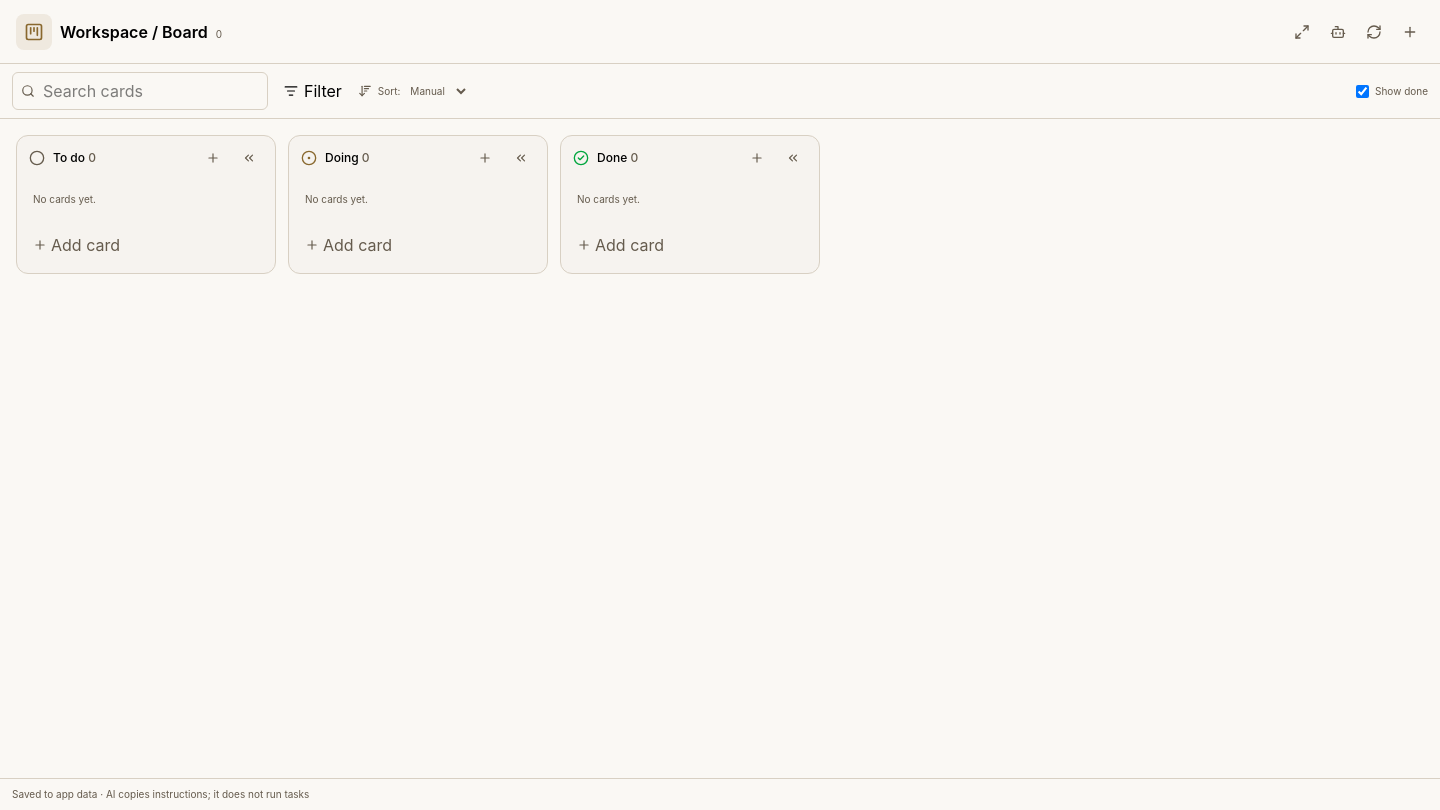
Scenario: adds continuously in the chosen column and ignores Enter during IME composition
Click the button named "Add card to Doing". click: click(485, 158)
box: [471, 144, 499, 172]
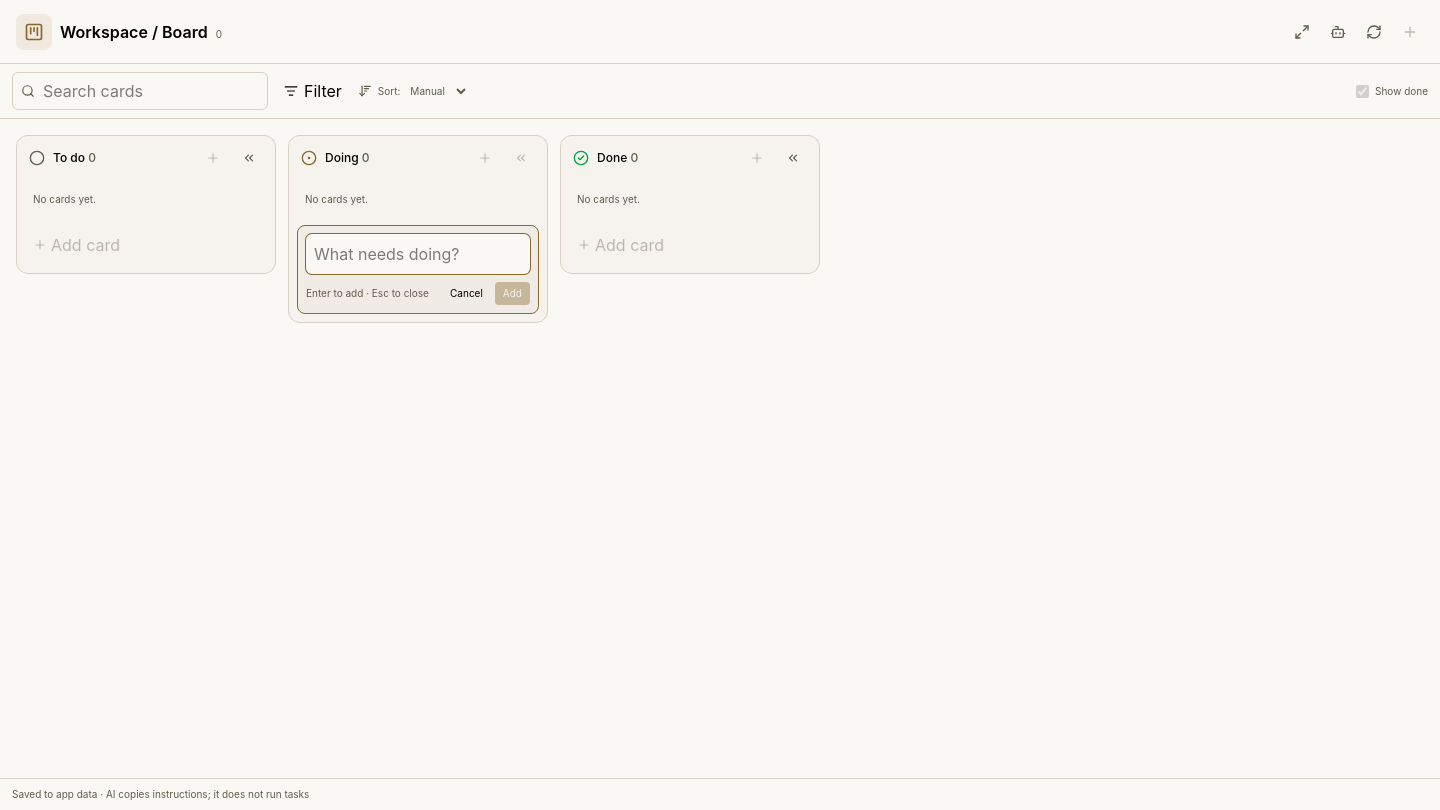
Type "IME draft" into the field named "New card title". click: (418, 254)
box: [306, 234, 530, 274]
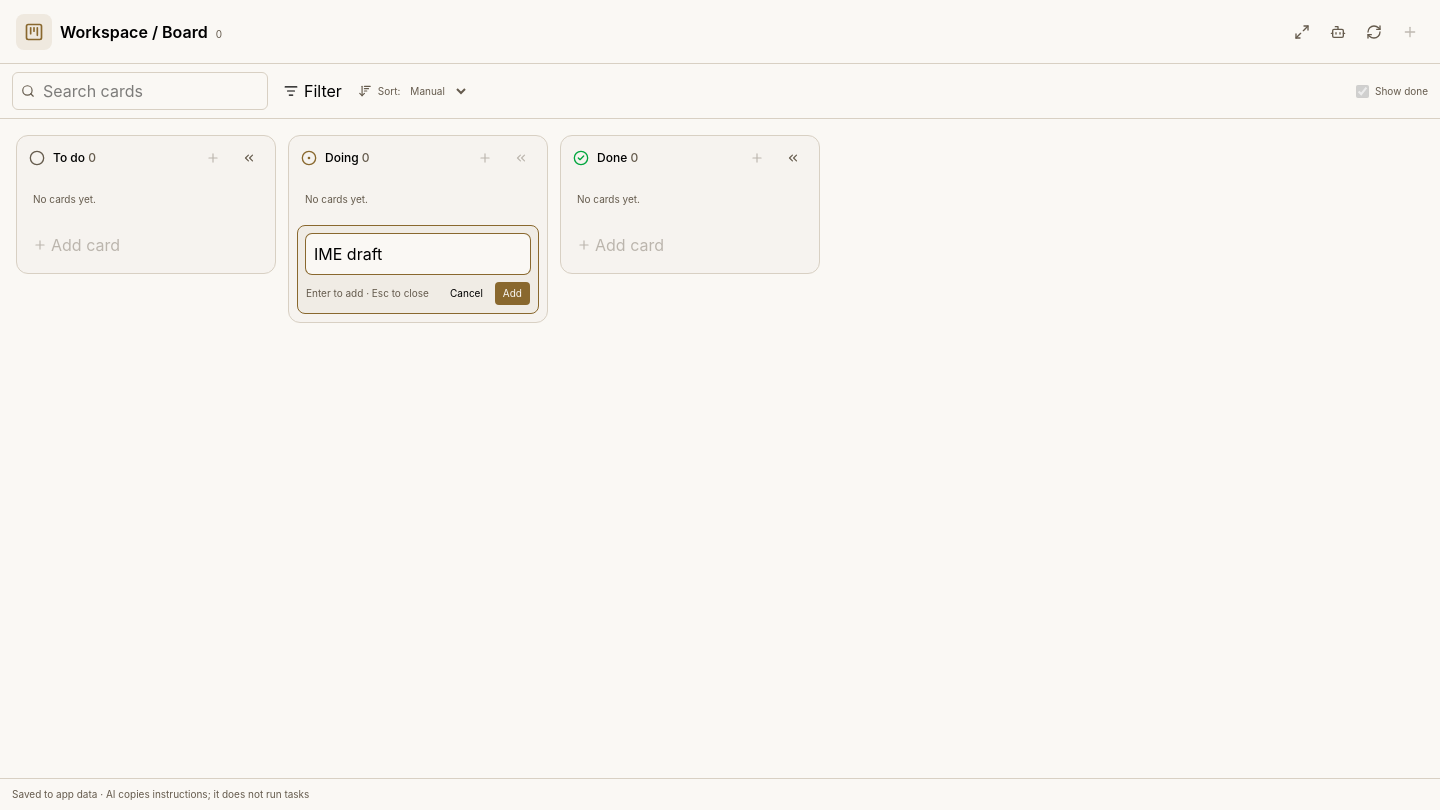
Press Enter in the field named "New card title", box [306, 234, 530, 274]
Press Enter in the field named "New card title", box [306, 234, 530, 274]
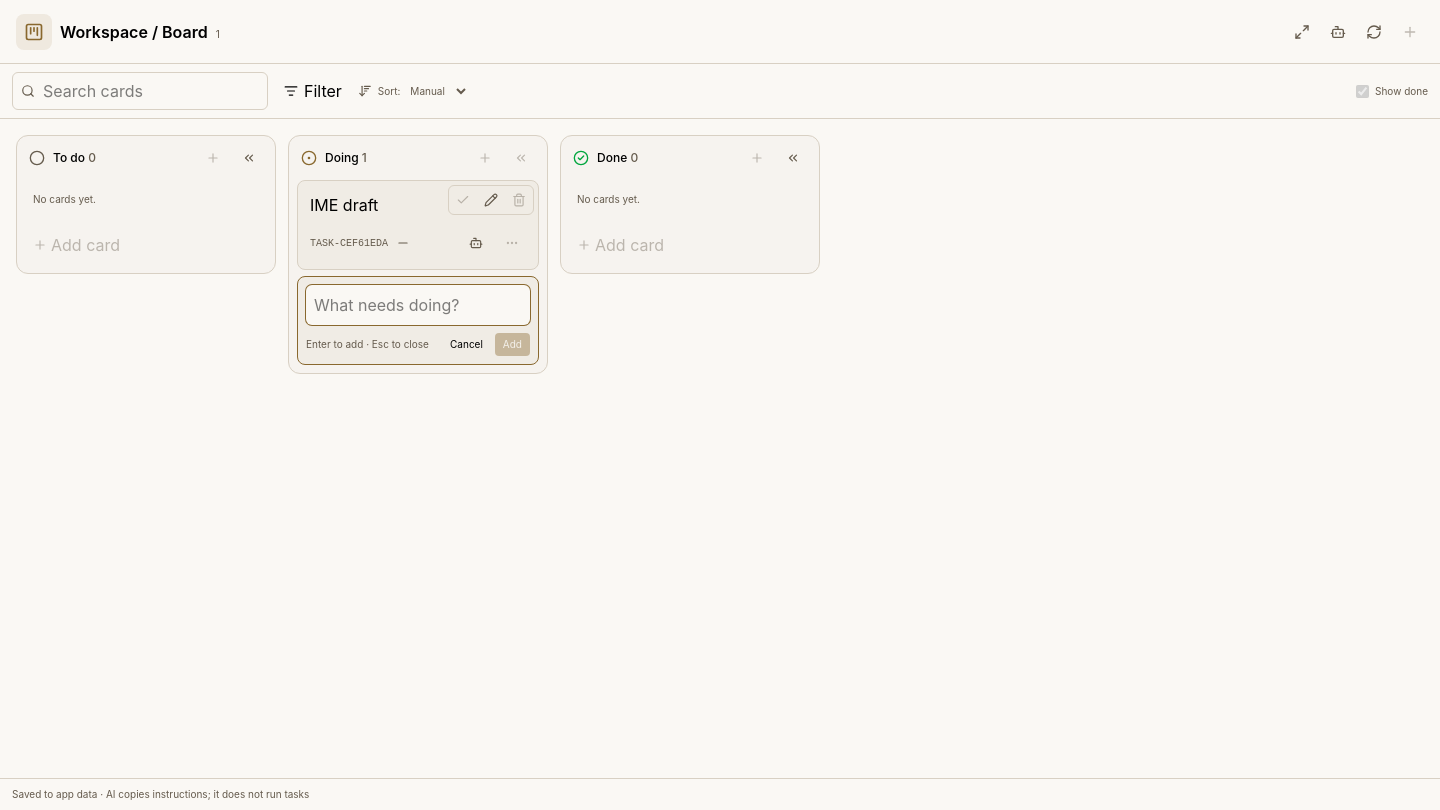
Expected: the element "IME draft" is shown, [297, 180, 539, 270]
Expected: the field named "New card title" is empty
Type "Second inline task" into the field named "New card title". click: (418, 305)
box: [306, 285, 530, 325]
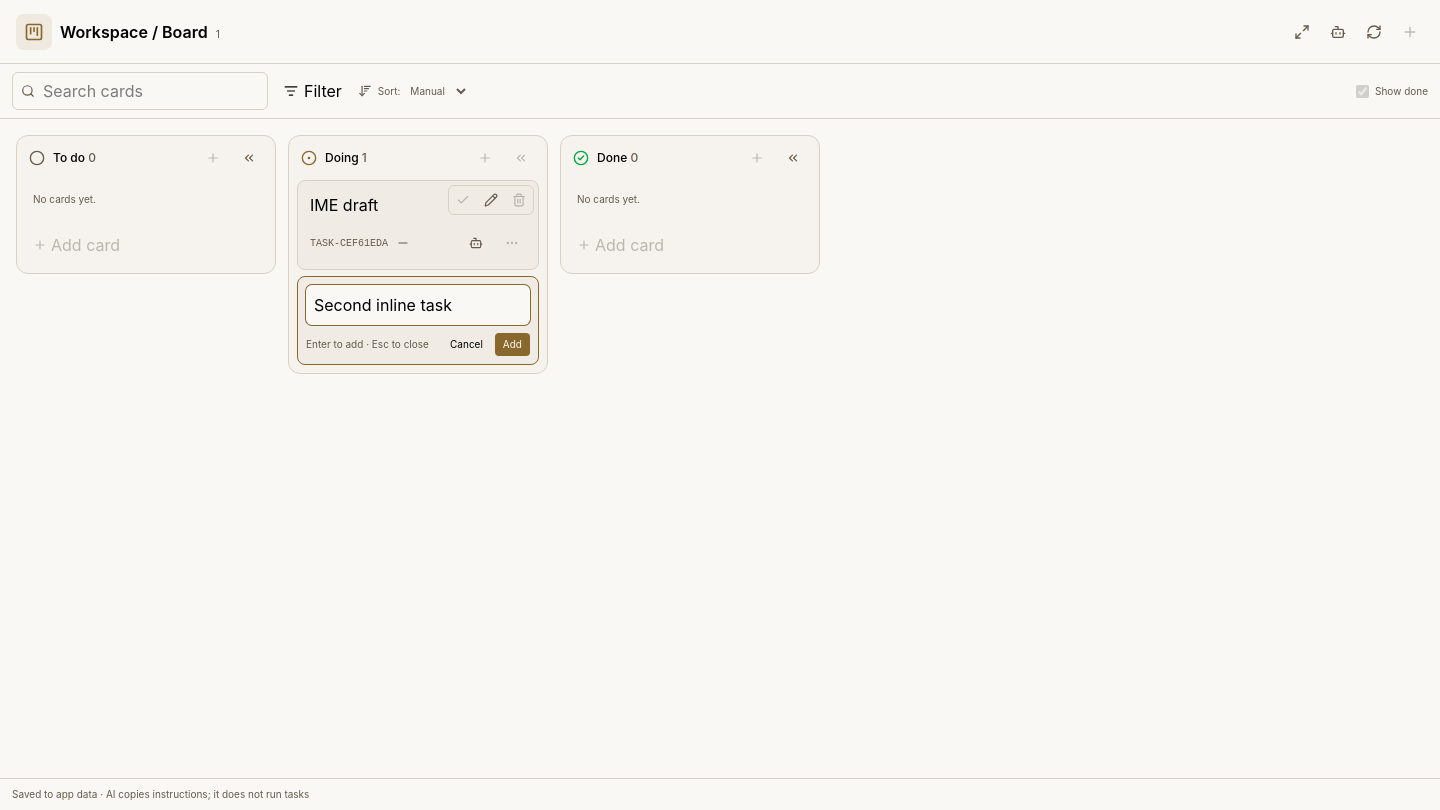
Press Enter in the field named "New card title", box [306, 285, 530, 325]
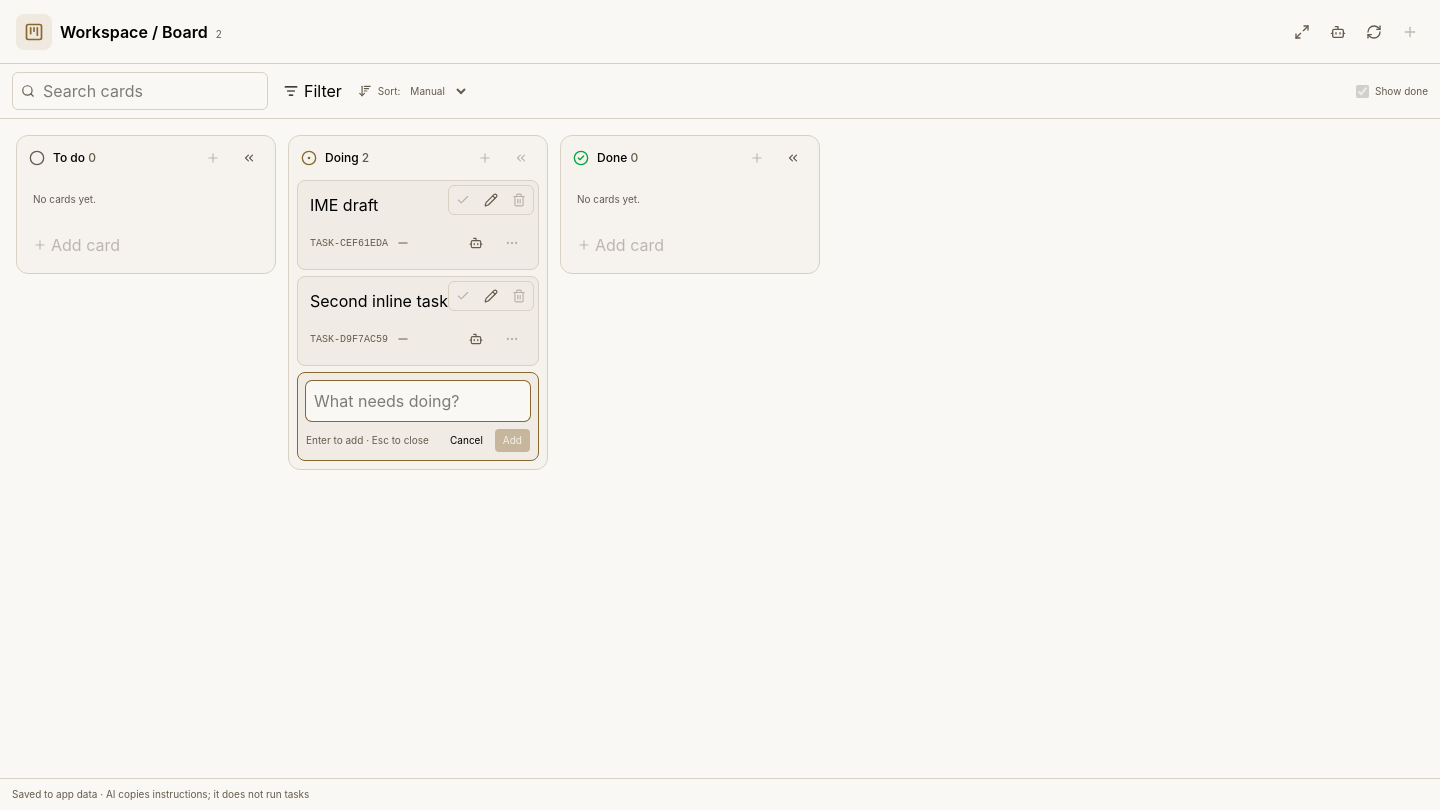
Expected: the element "Second inline task" is shown, [297, 276, 539, 366]
Press Escape in the field named "New card title", box [306, 381, 530, 421]
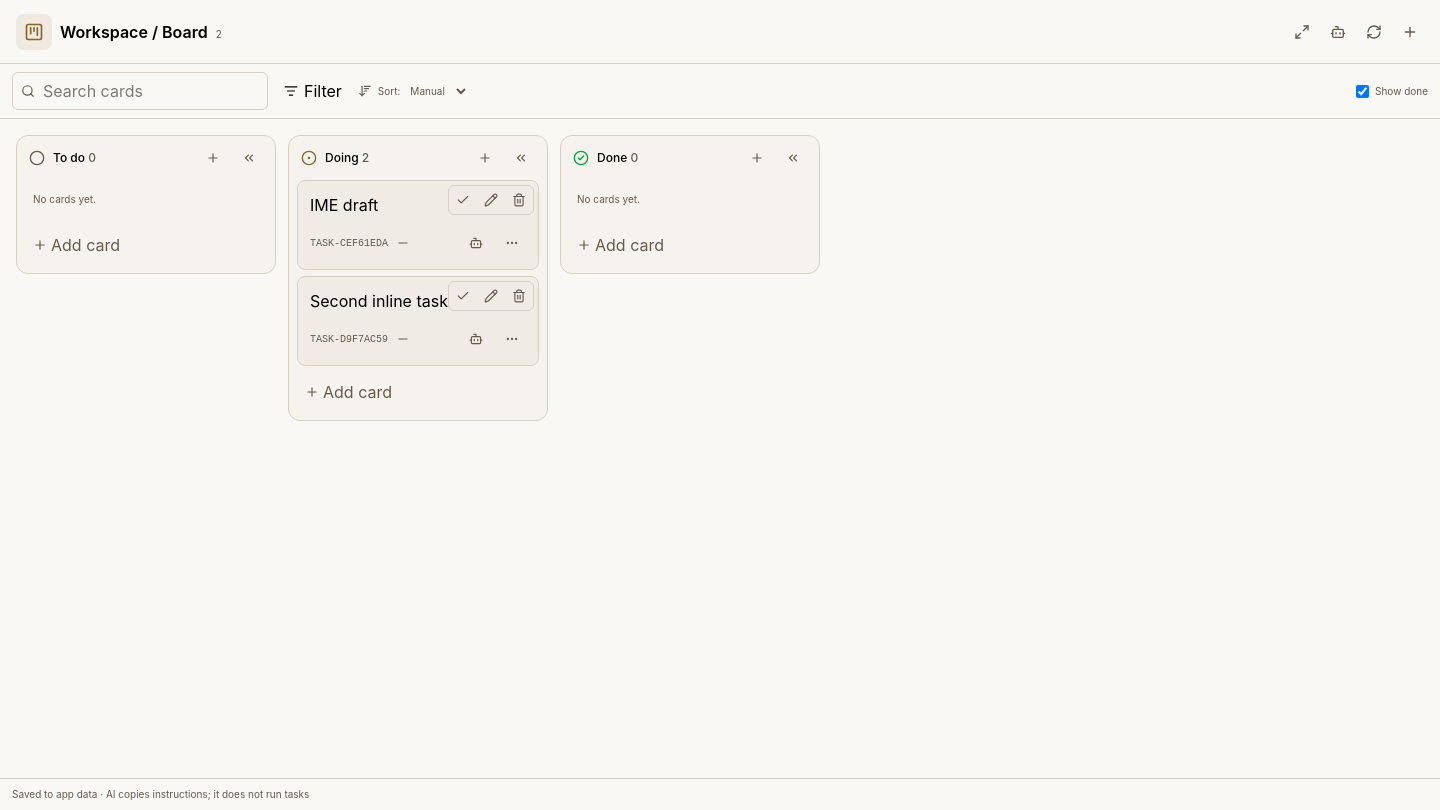
Expected: the form is gone
